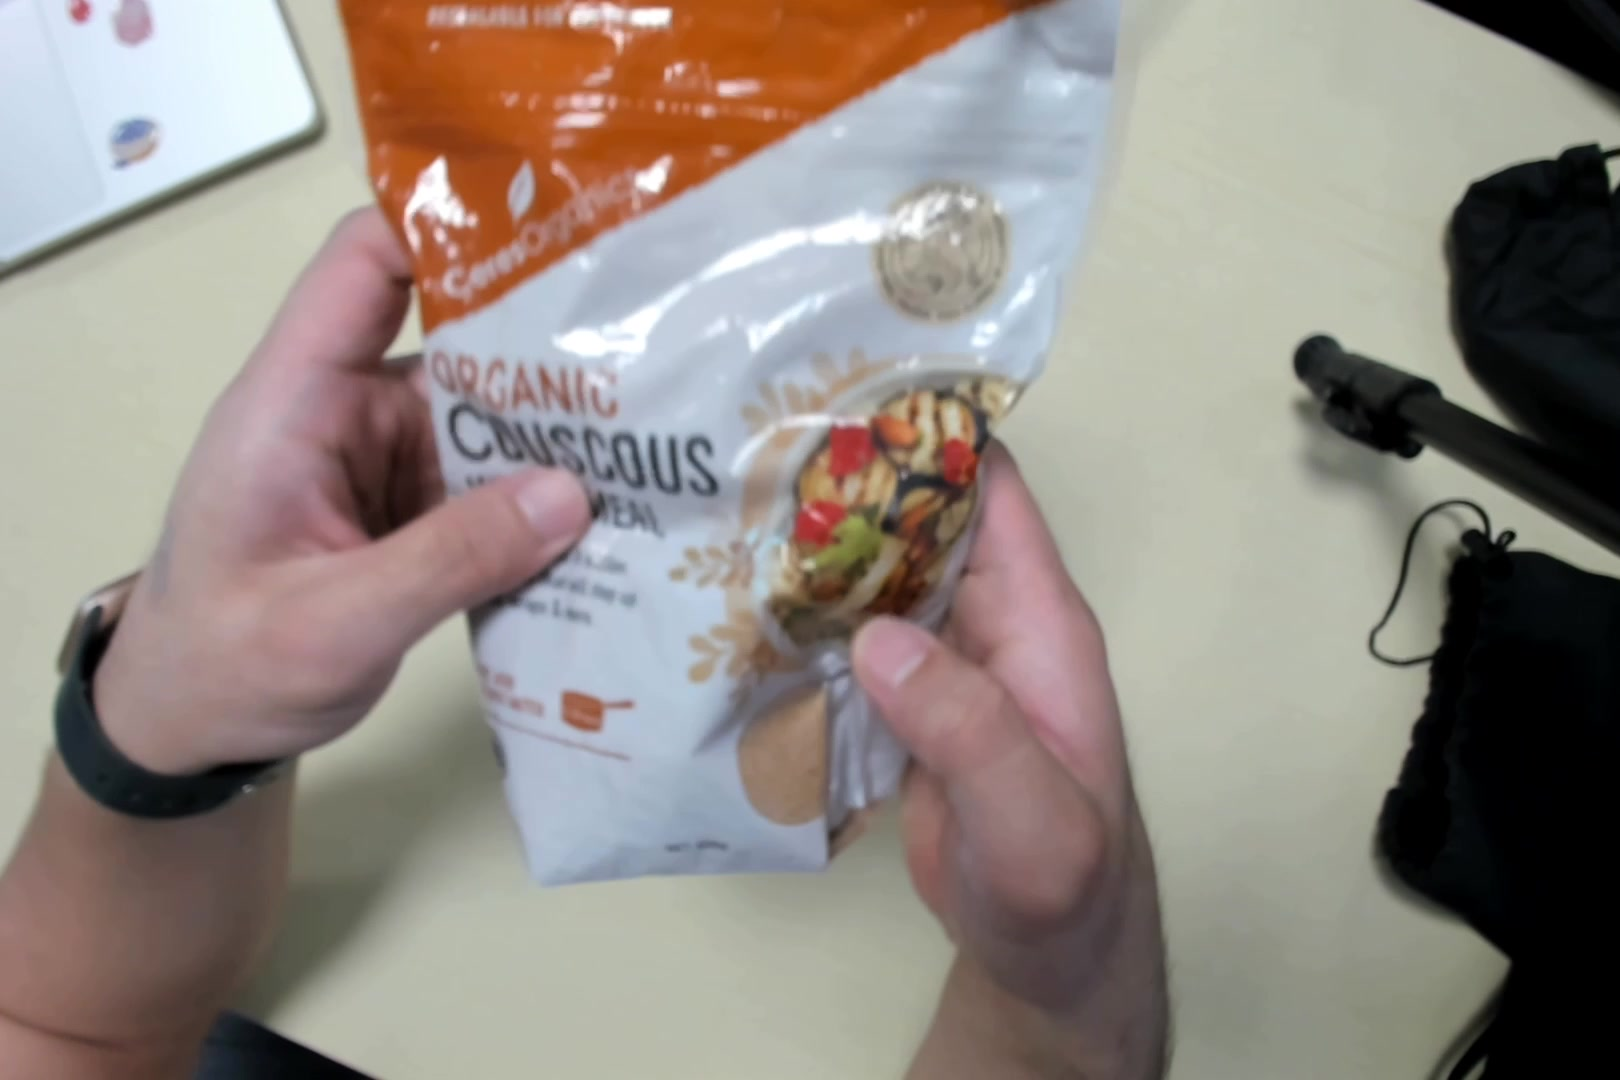Rice(BrownOthers)_300-399g_NonHalal_NonHealthy: (348, 2, 1113, 894)
